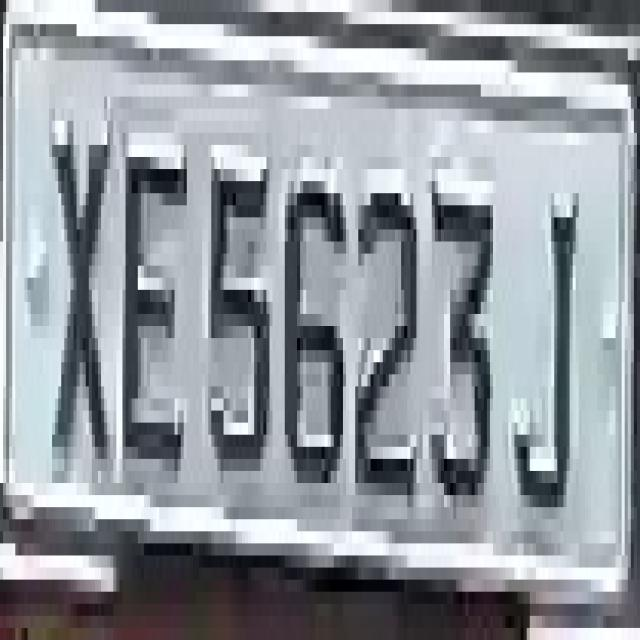2: (343, 157, 426, 543)
3: (426, 121, 499, 555)
5: (202, 145, 276, 531)
6: (276, 121, 343, 543)
E: (110, 133, 193, 483)
J: (514, 121, 582, 519)
X: (46, 97, 110, 507)
